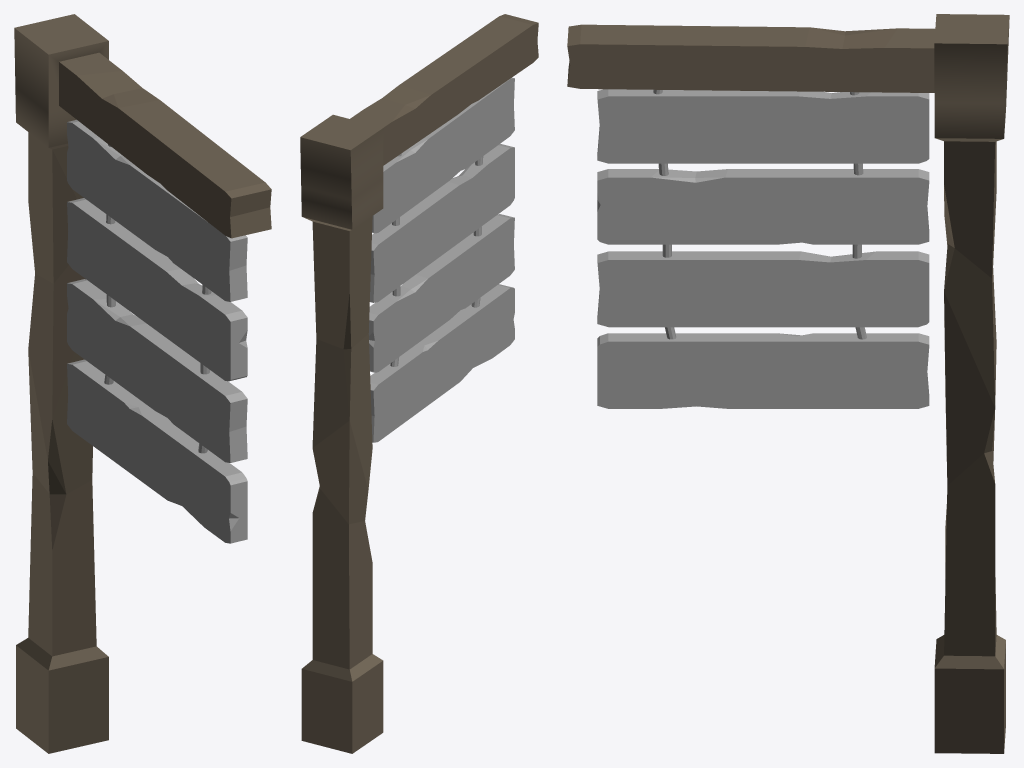
Rendered from SignPole.fbx.
3 renders of one model, left to right at view 1: azimuth 30°, elevation 25°; view 2: azimuth 150°, elevation 25°; view 3: azimuth 270°, elevation 25°, orthographic. The views are drawn at different scales.
Parts seen in each view (by area): view 1: SM_Bld_Saloon_01, SM_Bld_Sign_16, SM_Bld_Sign_19, SM_Bld_Sign_15, SM_Bld_Sign_18, SM_Bld_Sign_17; view 2: SM_Bld_Saloon_01, SM_Bld_Sign_16, SM_Bld_Sign_19, SM_Bld_Sign_18, SM_Bld_Sign_15, SM_Bld_Sign_17; view 3: SM_Bld_Saloon_01, SM_Bld_Sign_19, SM_Bld_Sign_15, SM_Bld_Sign_18, SM_Bld_Sign_17, SM_Bld_Sign_16.
Part boxes in pixels (<box>): SM_Bld_Saloon_01: <box>14,14,108,753</box>; SM_Bld_Sign_16: <box>59,52,271,238</box>; SM_Bld_Sign_19: <box>67,279,247,462</box>; SM_Bld_Sign_15: <box>67,359,247,543</box>; SM_Bld_Sign_18: <box>67,198,247,381</box>; SM_Bld_Sign_17: <box>67,119,247,301</box>; SM_Bld_Saloon_01: <box>300,114,383,753</box>; SM_Bld_Sign_16: <box>350,14,538,165</box>; SM_Bld_Sign_19: <box>368,214,514,372</box>; SM_Bld_Sign_18: <box>370,144,514,302</box>; SM_Bld_Sign_15: <box>370,284,514,442</box>; SM_Bld_Sign_17: <box>372,77,514,233</box>; SM_Bld_Saloon_01: <box>934,14,1009,753</box>; SM_Bld_Sign_19: <box>597,251,929,327</box>; SM_Bld_Sign_15: <box>597,333,929,408</box>; SM_Bld_Sign_18: <box>597,169,929,244</box>; SM_Bld_Sign_17: <box>597,89,929,163</box>; SM_Bld_Sign_16: <box>567,24,935,92</box>.
Size of the model in its own units: 27.23 by 297 by 168.
